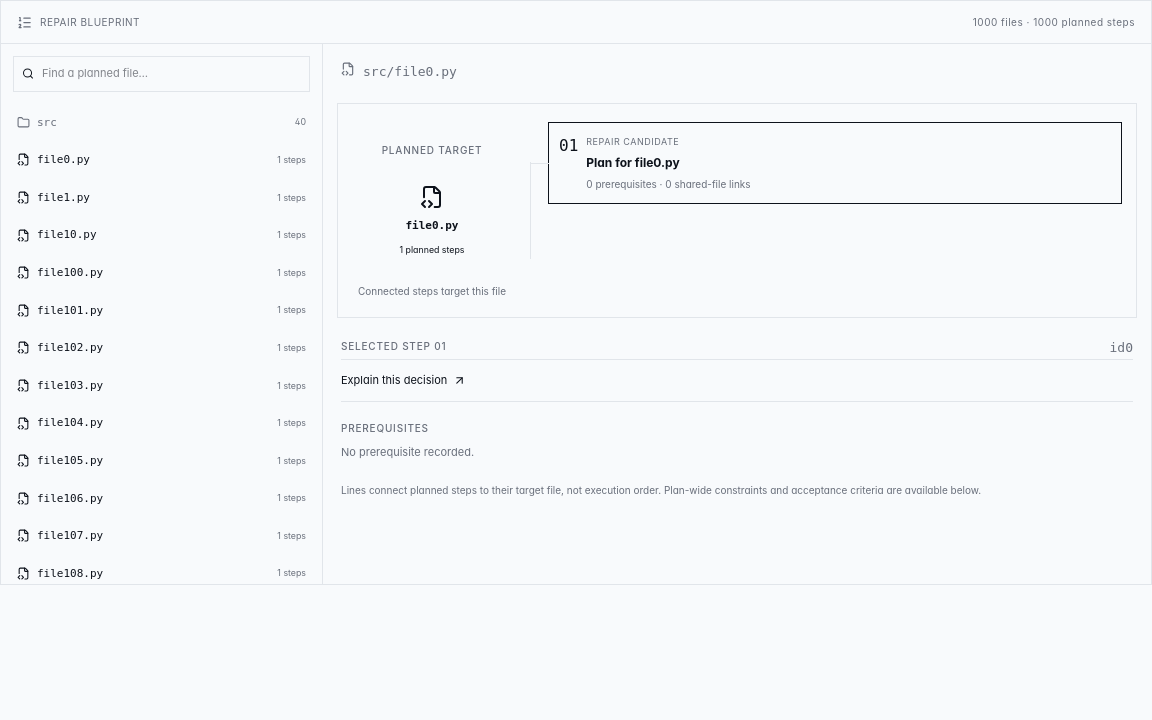
Scenario: searches a large plan and navigates prerequisites
Type "file999" into the field named "Search planned files". click: (172, 74)
box: [42,65,301,83]
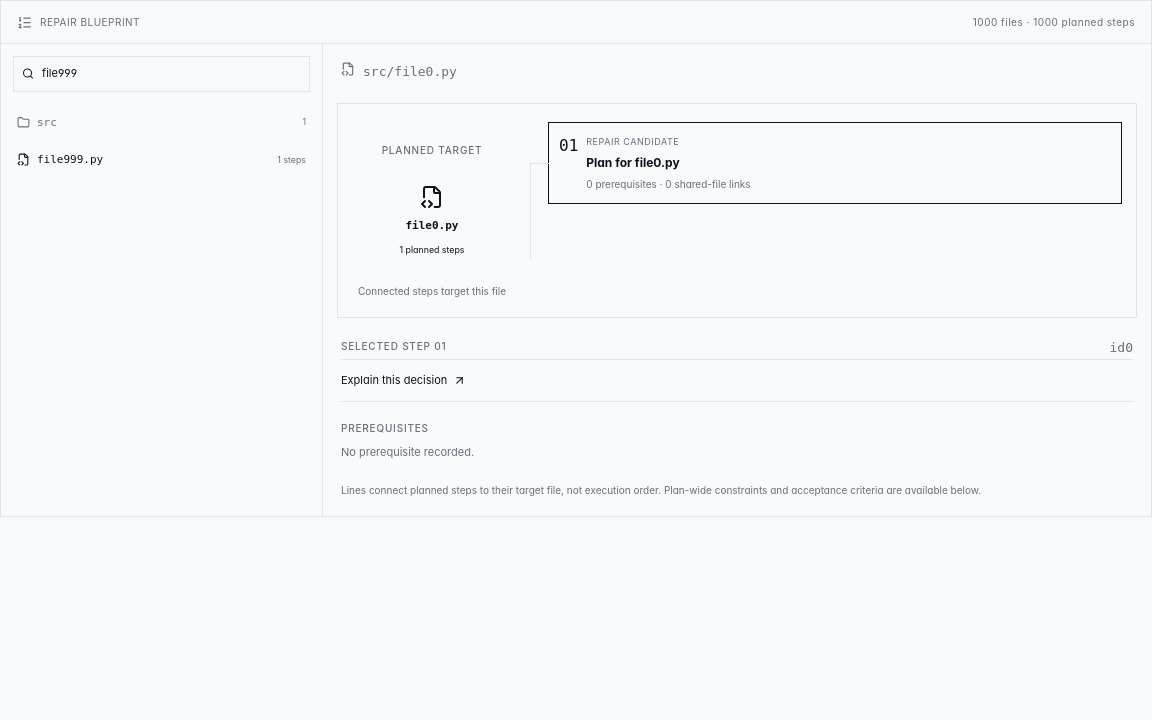
Click the button "file999.py 1 steps". click: (70, 160)
box: [9,141,314,179]
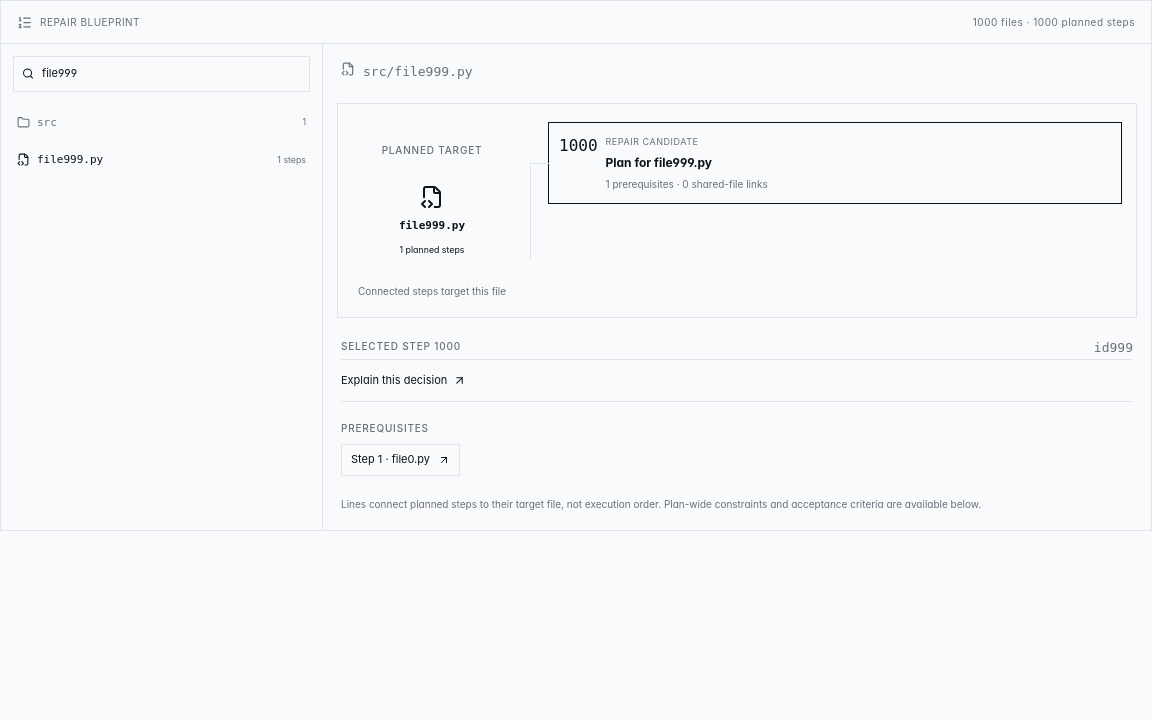
Check: the text "Plan for file999.py" is shown, box [606,155,712,170]
Click the button "Step 1 · file0.py". click: (400, 460)
box: [341,444,460,476]
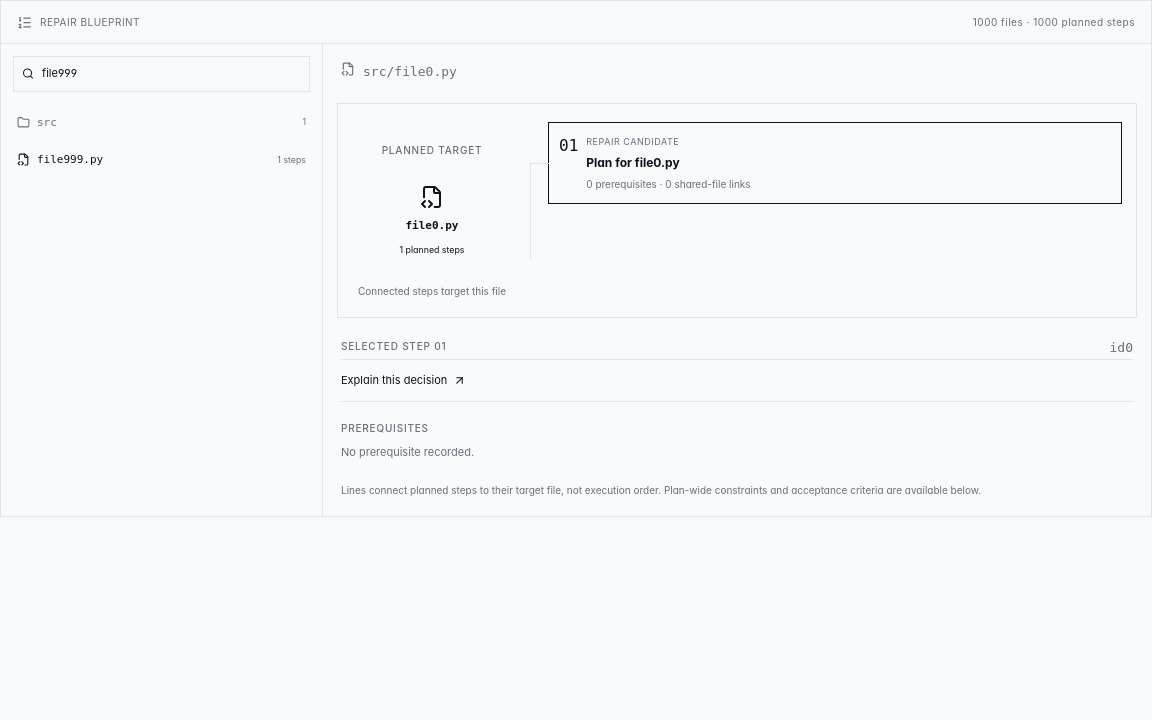
Check: the text "Plan for file0.py" is shown, box [586,155,680,170]
